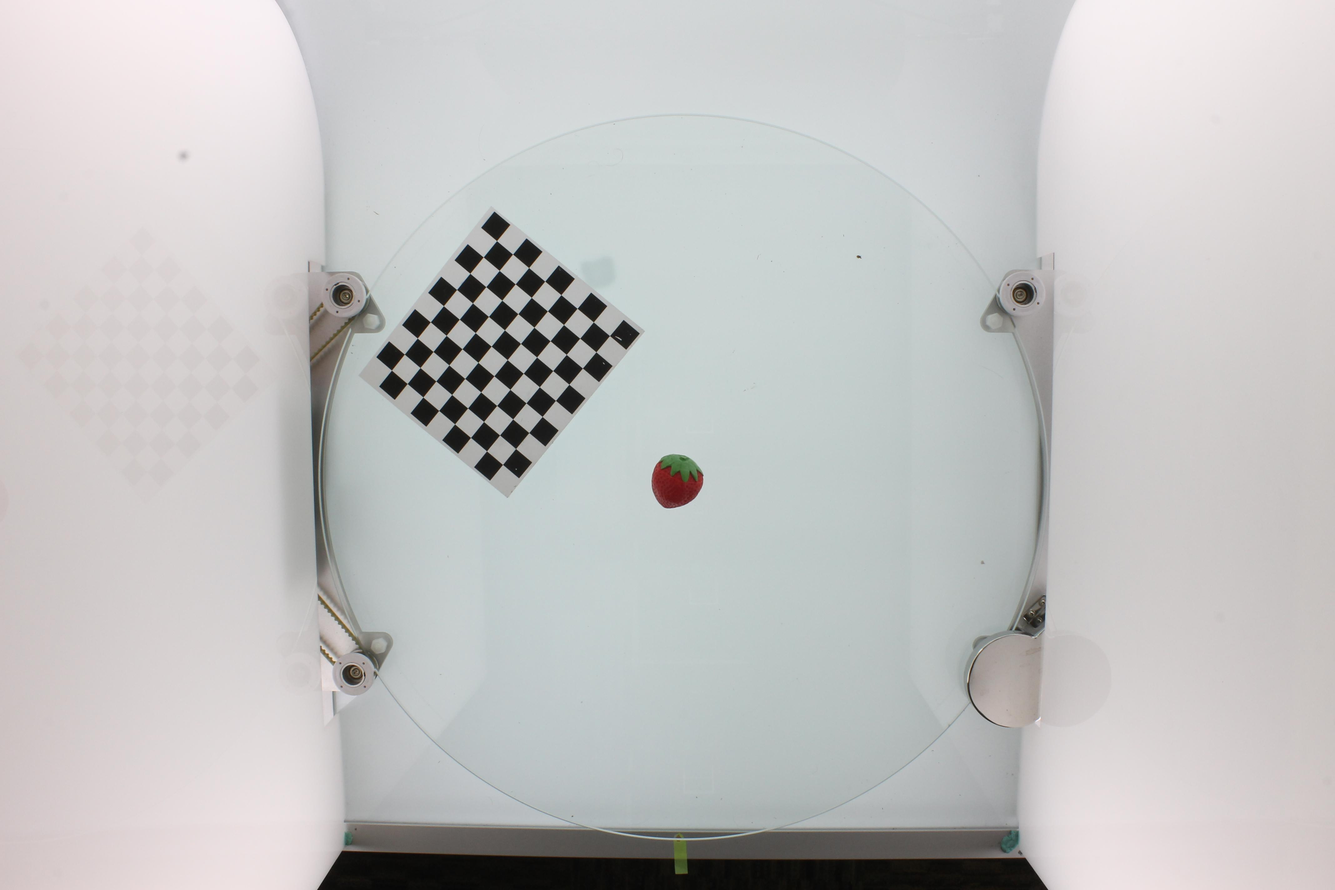strawberry: (652, 455, 703, 508)
